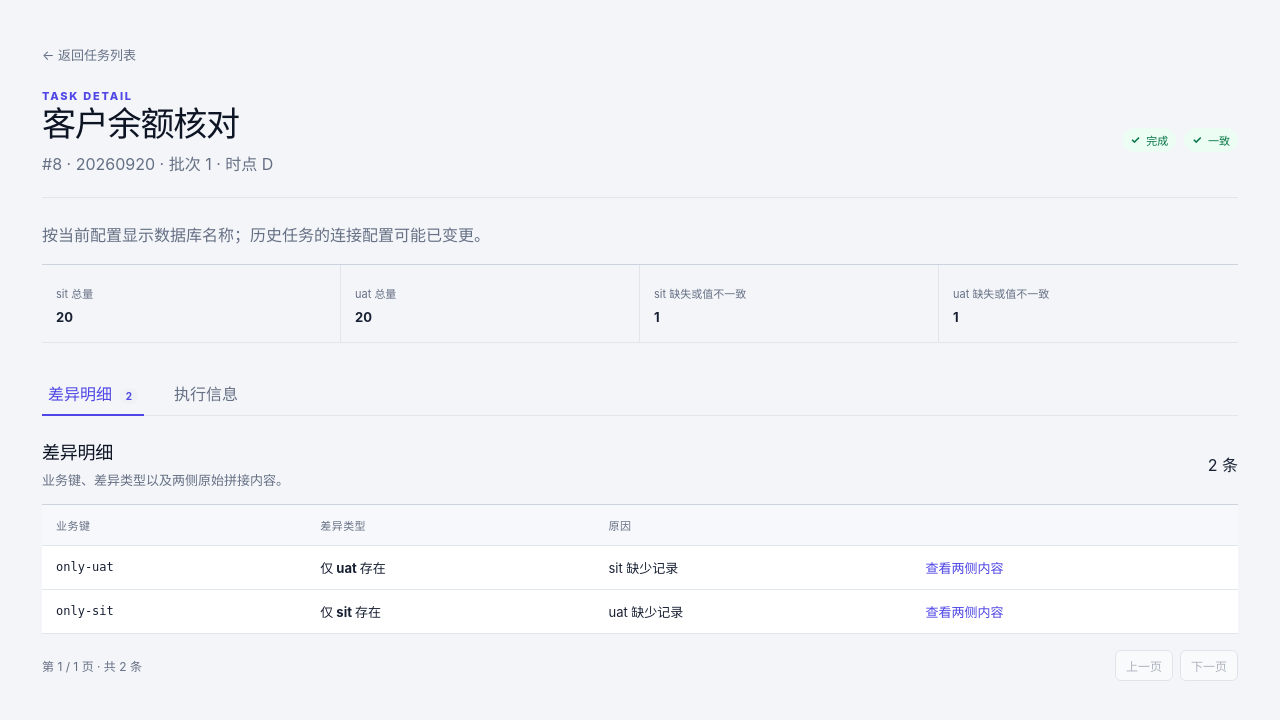
Scenario: uses database names for missing records, contents and counts
The width and height of the screenshot is (1280, 720).
Expected: the text "仅 uat 存在" is shown, [320,560,386,576]
Expected: the text "sit 缺少记录" is shown, [594,545,912,589]
Click the button "查看两侧内容" in the row of "only-uat" at (964, 567), box [925,558,1003,577]
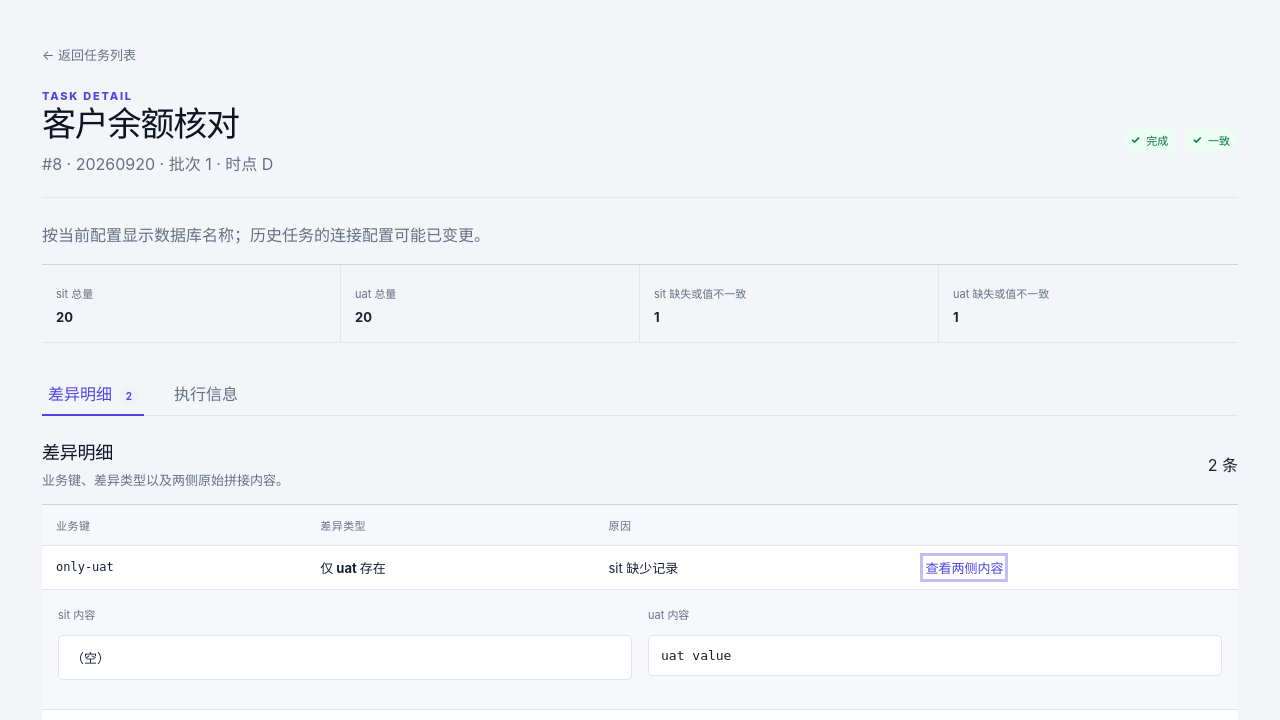
Now the text "sit 内容" is shown, box [58,608,95,622]
Now the text "uat 内容" is shown, box [648,608,689,622]
